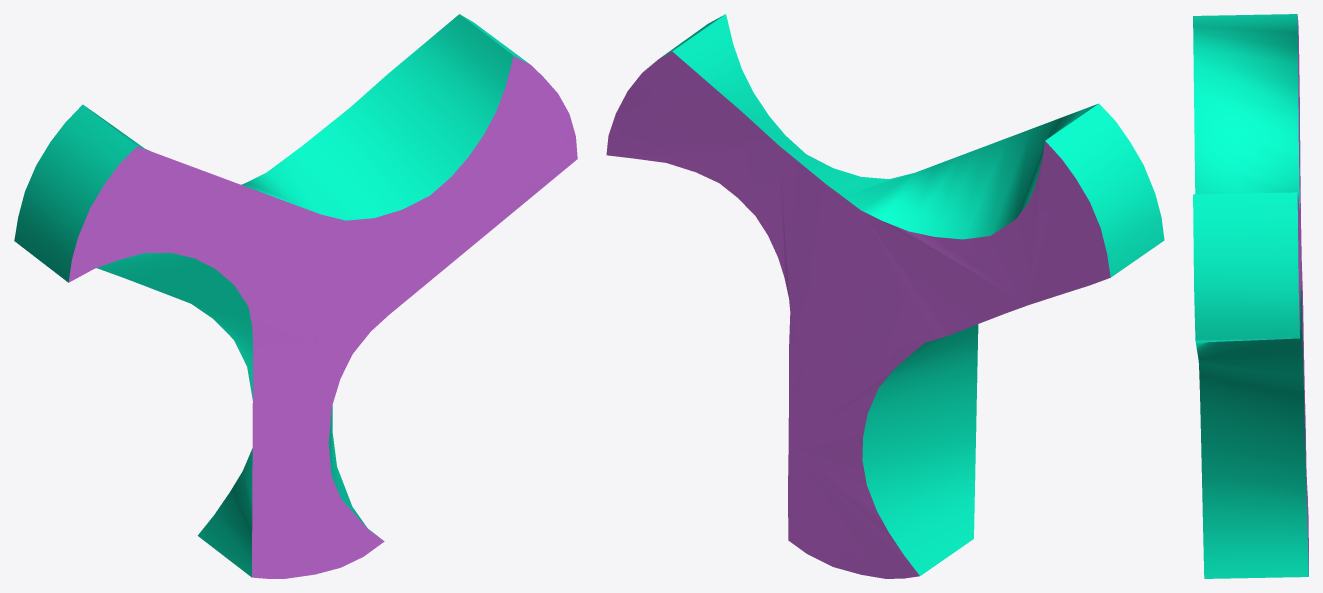
File: symbol_symbol.fbx
The picture shows the model from 3 angles, left to right: view 1: azimuth 30°, elevation 25°; view 2: azimuth 150°, elevation 25°; view 3: azimuth 270°, elevation 25°; orthographic projection. The views are drawn at different scales.
Parts seen in each view (by area): view 1: Symbol_chest; view 2: Symbol_chest; view 3: Symbol_chest.
Boxes of the visible parts, x1,y1,x2,y2 form: Symbol_chest: (14, 14, 577, 578); Symbol_chest: (606, 14, 1164, 578); Symbol_chest: (1193, 14, 1308, 578).
Bounding box in the file's own units: 3.22 × 2.9 × 0.6593.
1 material, 1 textured.
